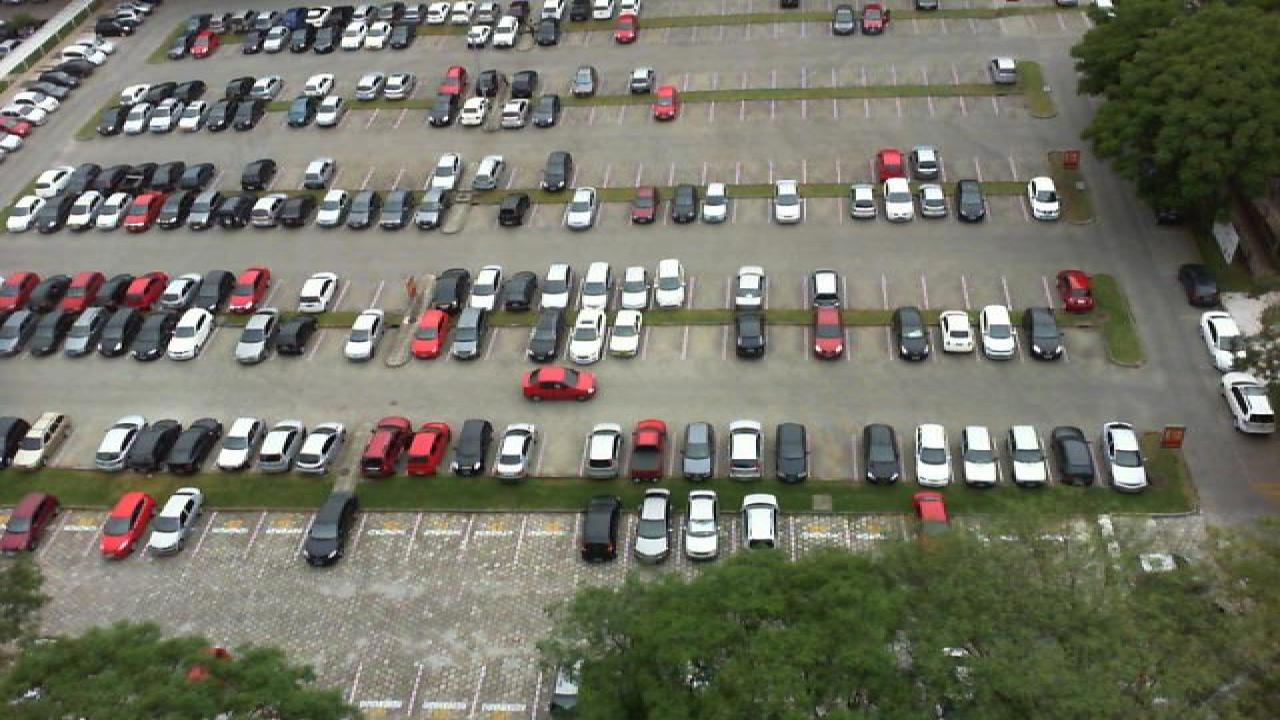Car: (300, 492, 356, 567), (146, 486, 204, 556), (96, 492, 156, 559), (1098, 419, 1150, 492), (0, 492, 60, 554), (1224, 371, 1280, 436), (130, 418, 192, 476), (1046, 423, 1100, 488), (356, 416, 412, 477), (14, 411, 72, 469), (90, 415, 150, 471), (210, 416, 266, 475), (168, 417, 222, 476), (1198, 309, 1252, 368), (1004, 422, 1052, 488), (446, 416, 496, 477), (290, 420, 346, 474), (162, 306, 216, 362), (630, 488, 674, 556), (1018, 304, 1068, 363), (578, 492, 620, 562), (520, 364, 600, 400), (490, 421, 538, 480), (858, 422, 902, 486), (252, 420, 304, 474), (24, 308, 78, 360), (98, 308, 152, 360), (960, 423, 1004, 485), (976, 302, 1020, 364), (62, 308, 114, 360), (338, 308, 388, 362), (406, 306, 456, 360), (218, 264, 272, 314), (682, 489, 720, 560), (626, 418, 668, 482), (912, 422, 952, 488), (578, 423, 624, 480), (232, 308, 280, 362), (804, 305, 850, 361), (772, 422, 812, 486), (678, 423, 722, 481), (522, 305, 566, 363), (406, 422, 452, 476), (164, 270, 220, 314), (738, 493, 780, 551), (726, 419, 764, 482), (888, 306, 930, 363), (134, 308, 180, 360), (564, 305, 604, 364), (1176, 262, 1224, 311), (728, 302, 770, 358), (452, 306, 494, 361), (36, 272, 92, 313), (4, 189, 56, 233), (272, 310, 318, 359), (426, 265, 472, 314), (604, 304, 644, 360), (80, 270, 132, 313), (908, 490, 954, 538), (60, 188, 106, 235), (1054, 267, 1098, 316), (290, 271, 340, 314), (0, 270, 50, 313), (936, 311, 978, 361), (538, 262, 580, 311), (240, 190, 288, 232), (576, 261, 616, 311), (92, 188, 136, 233), (876, 174, 916, 223), (1024, 173, 1064, 222), (0, 308, 38, 359), (730, 263, 768, 312), (560, 183, 598, 232), (804, 268, 846, 312), (120, 271, 164, 312), (208, 191, 252, 232), (650, 258, 686, 308), (616, 260, 652, 309), (498, 269, 538, 313), (428, 150, 468, 194), (770, 177, 806, 225), (122, 190, 162, 232), (410, 188, 448, 232), (346, 188, 384, 231), (150, 191, 190, 231), (282, 189, 322, 229), (180, 189, 218, 231), (378, 188, 414, 232), (464, 264, 498, 310), (698, 180, 732, 226), (316, 188, 352, 231), (538, 150, 574, 192), (626, 182, 660, 226), (494, 192, 532, 230), (844, 180, 880, 220), (298, 156, 338, 192), (916, 180, 952, 219), (954, 179, 988, 220), (86, 162, 126, 196), (666, 181, 696, 226), (906, 145, 942, 181), (470, 156, 506, 192), (150, 158, 186, 194), (240, 158, 278, 192), (182, 160, 220, 194), (56, 162, 94, 196), (872, 146, 908, 181), (200, 98, 234, 134), (426, 92, 460, 128), (494, 94, 528, 130), (32, 166, 74, 195), (650, 84, 682, 122), (92, 103, 128, 135), (284, 94, 316, 130), (528, 92, 560, 128), (118, 102, 152, 135), (172, 100, 204, 134), (456, 96, 490, 128), (230, 96, 260, 132), (146, 101, 178, 134), (436, 64, 468, 97), (120, 164, 154, 195), (990, 56, 1022, 88), (312, 94, 342, 128), (234, 27, 268, 57), (494, 19, 526, 50), (464, 21, 496, 52), (188, 28, 220, 59), (472, 69, 502, 101), (532, 18, 562, 50), (860, 2, 888, 36), (116, 82, 152, 108), (612, 65, 642, 96), (508, 69, 538, 100), (316, 23, 348, 52), (262, 26, 294, 55), (162, 29, 194, 58), (832, 3, 860, 36), (612, 12, 640, 45), (144, 80, 178, 107), (288, 25, 318, 55), (220, 76, 254, 102), (380, 72, 410, 101), (304, 72, 336, 99), (248, 73, 280, 100), (570, 64, 596, 97), (378, 22, 408, 50), (348, 24, 378, 52), (174, 80, 206, 106), (354, 72, 382, 100)
